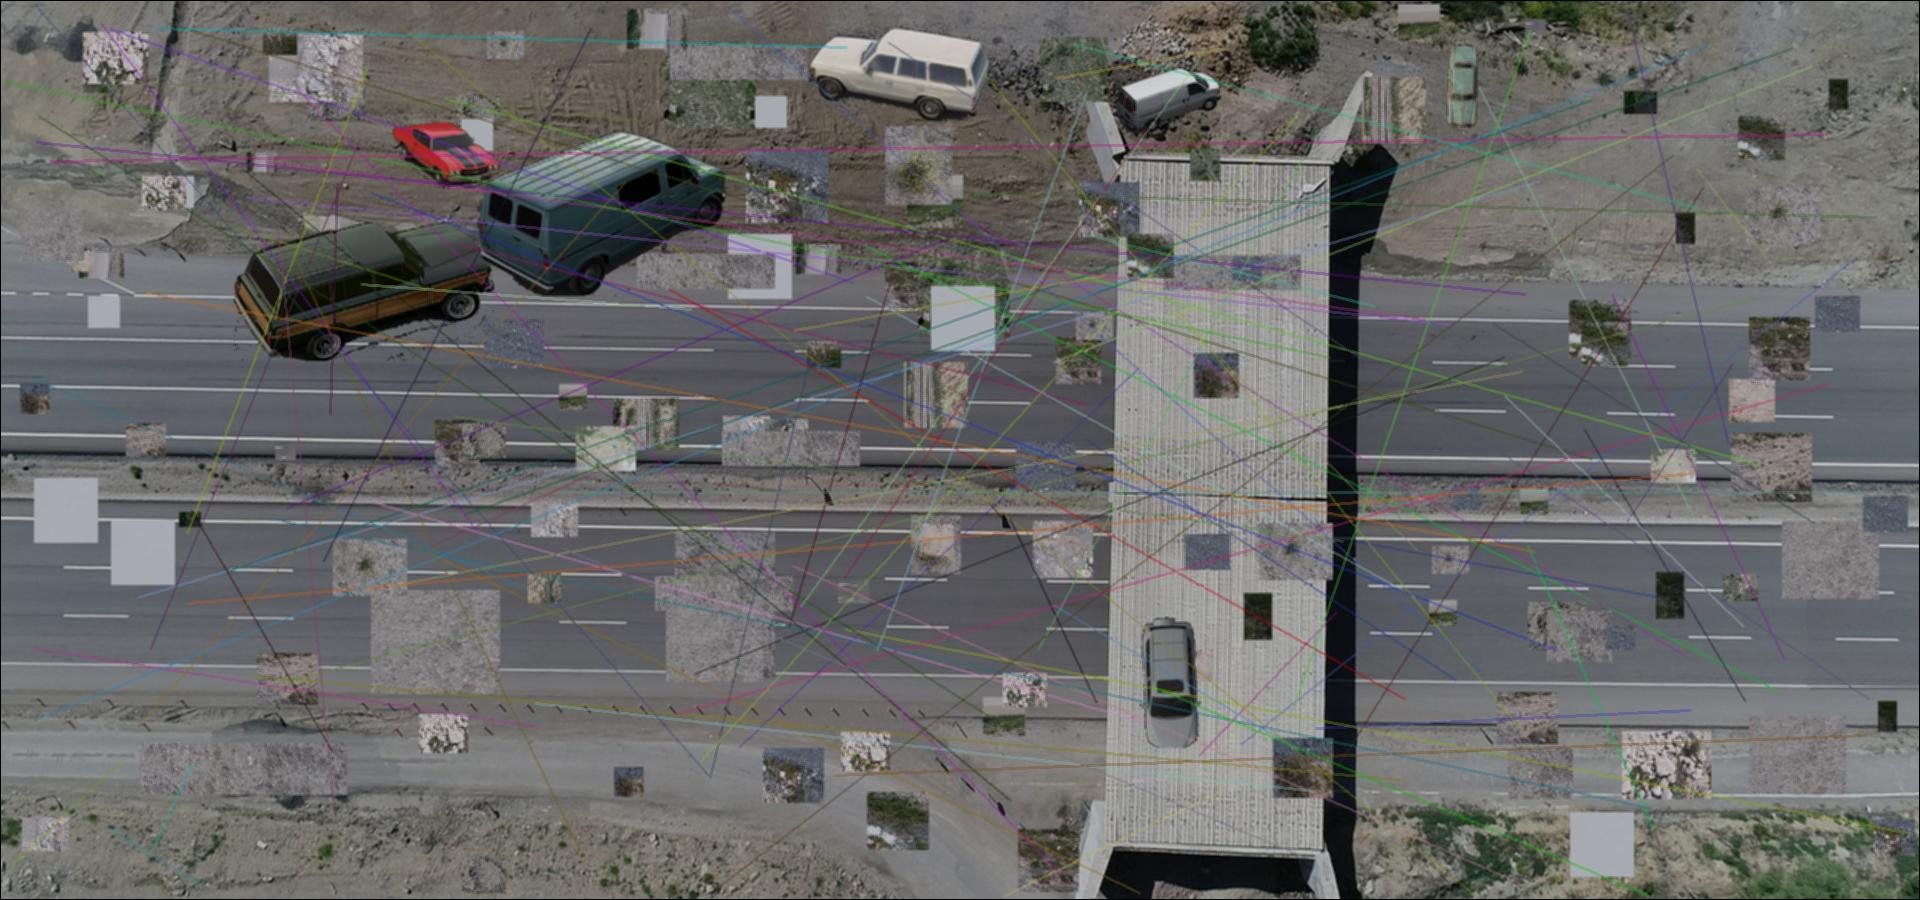arac: (478, 122, 727, 296), (233, 222, 496, 361), (809, 22, 991, 125), (1138, 616, 1201, 748), (392, 120, 500, 189), (1116, 66, 1221, 133), (1446, 42, 1479, 129)
